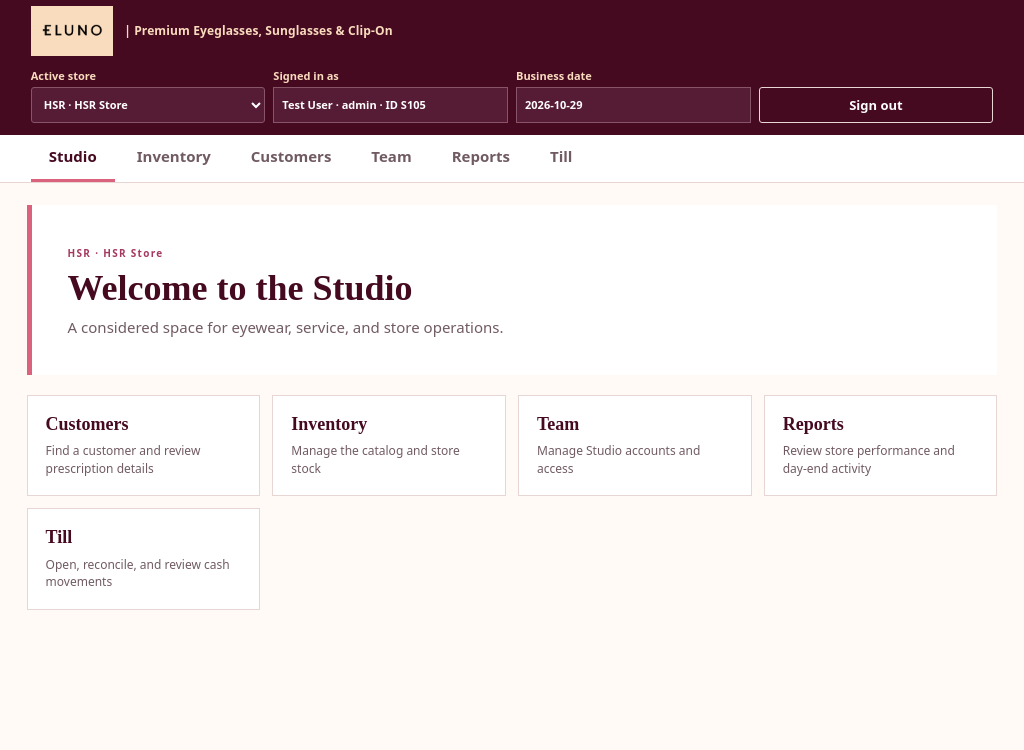
Test case: browser POS workflows › edits optical catalog details through the Admin API without exposing the editor to Cashiers
Click the button "Inventory" at (174, 158), box [119,135,229,182]
(page scrolled)
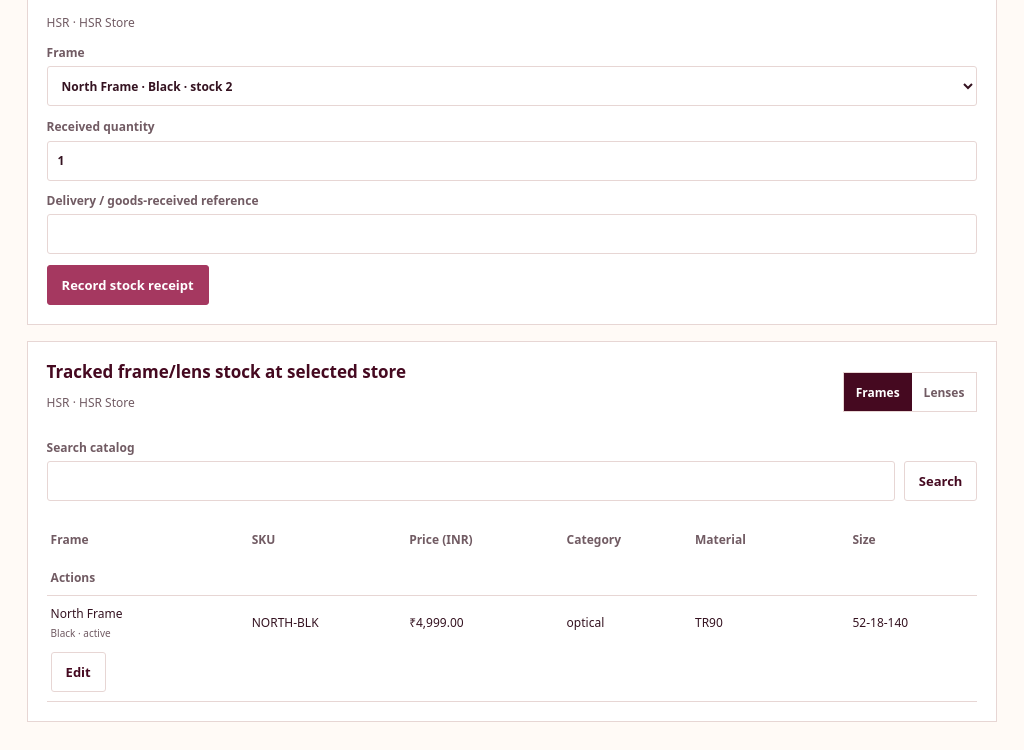
Click the button with aria-label "Edit North Frame" at (78, 672), box [51,652,106,692]
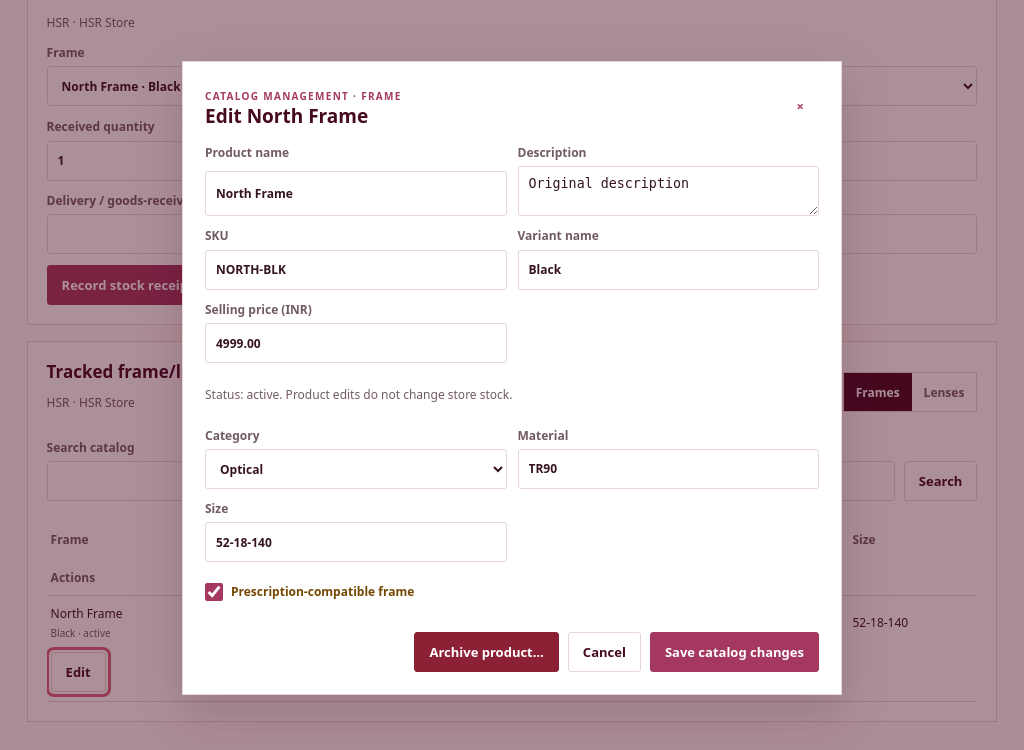
Replace the text in the field labelled "Product name" with "North Frame Updated" at (356, 194), box [205,172,506,216]
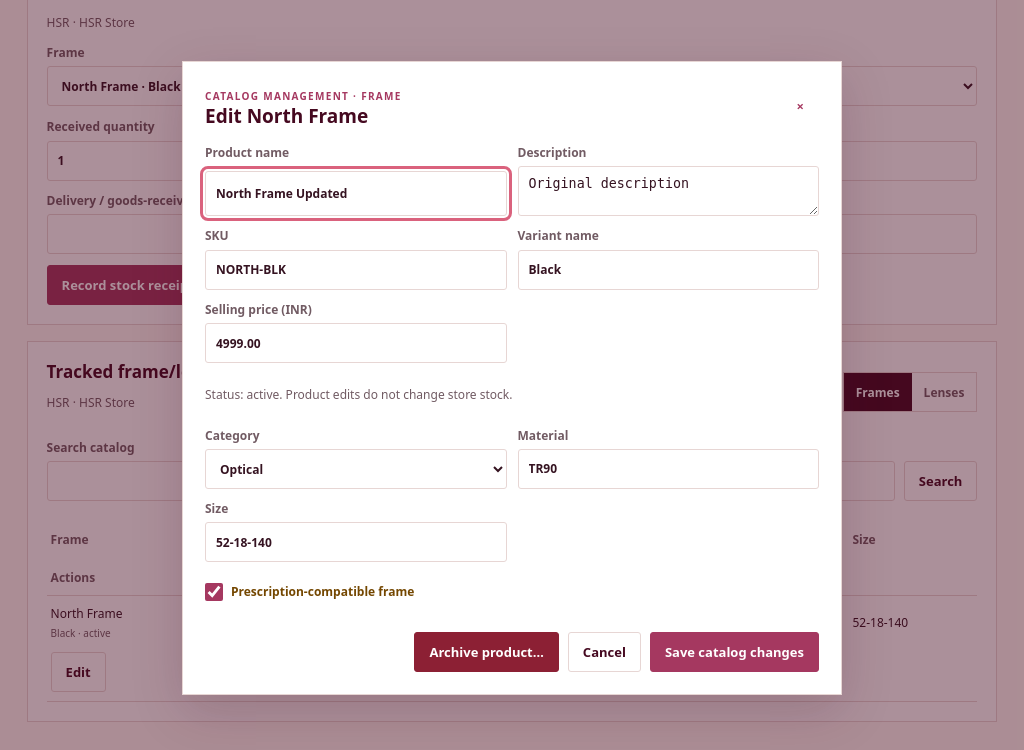
Click the button "Save catalog changes" at (734, 652), box [650,632,819,672]
(page scrolled)
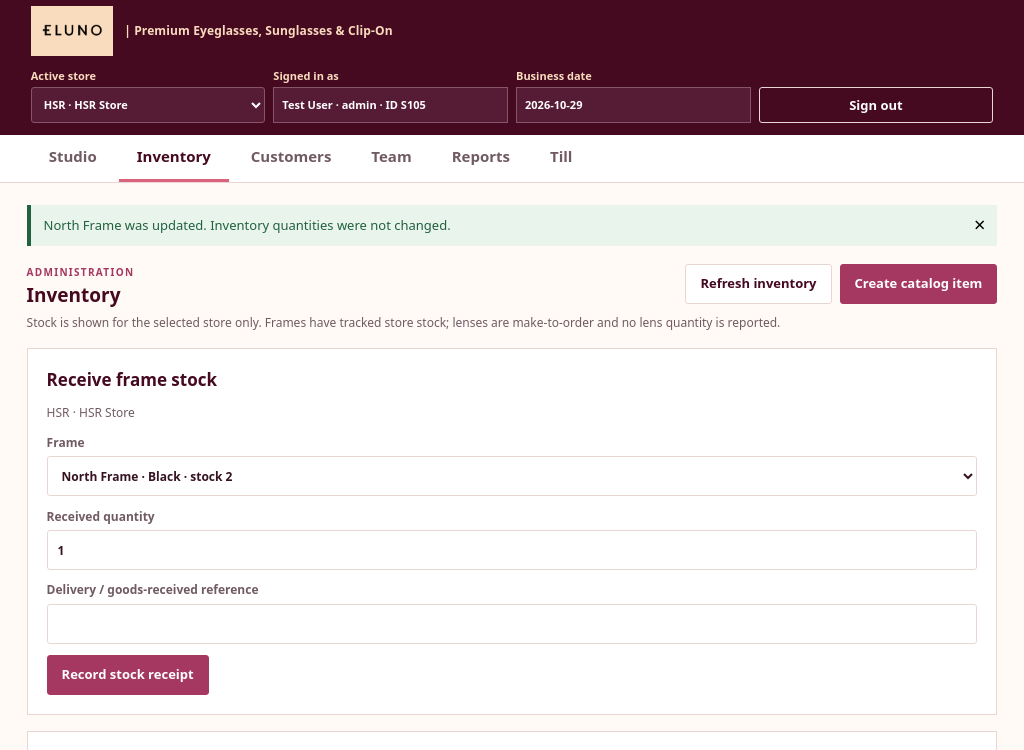
Expected: the text "North Frame was updated. Inventory quantities were not changed." is shown, [44,216,451,234]
